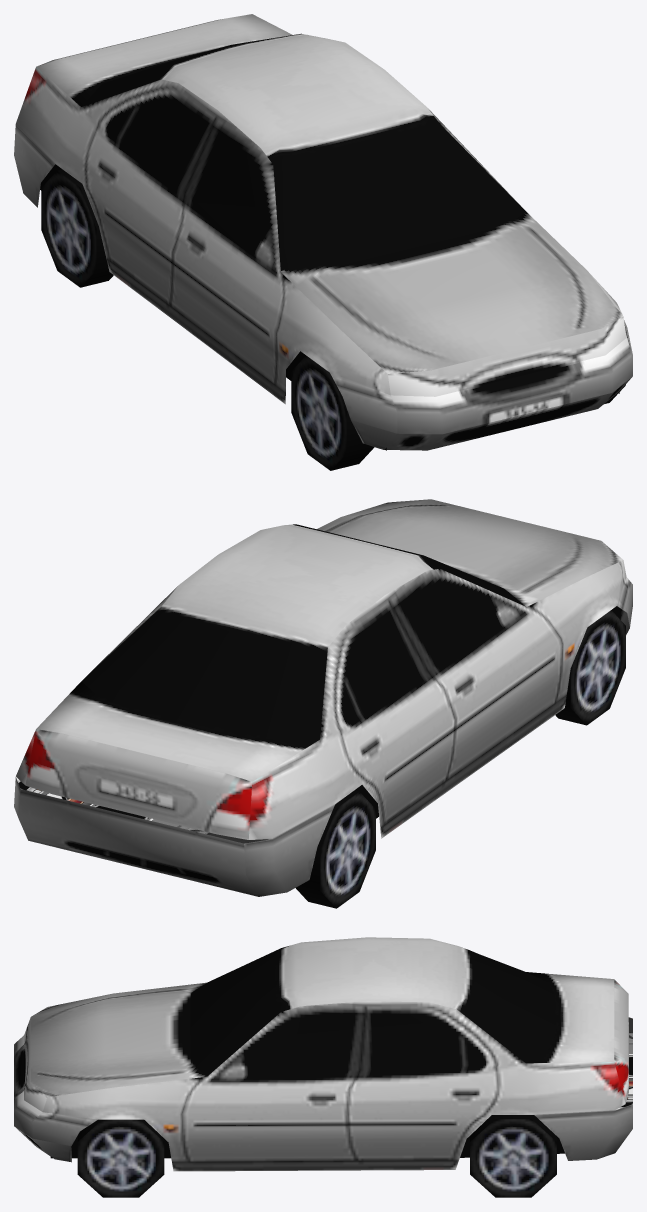
File: Car_FordMondeo.fbx
The picture shows the model from 3 angles, top to bottom: view 1: azimuth 30°, elevation 25°; view 2: azimuth 150°, elevation 25°; view 3: azimuth 270°, elevation 25°; orthographic projection. The views are drawn at different scales.
Parts seen in each view (by area): view 1: Car_FordMondeo; view 2: Car_FordMondeo; view 3: Car_FordMondeo.
Part boxes in pixels (<box>): Car_FordMondeo: <box>14,14,632,470</box>; Car_FordMondeo: <box>14,499,632,908</box>; Car_FordMondeo: <box>14,937,632,1197</box>.
Bounding box in the file's own units: 1.88 × 1.43 × 4.47.
